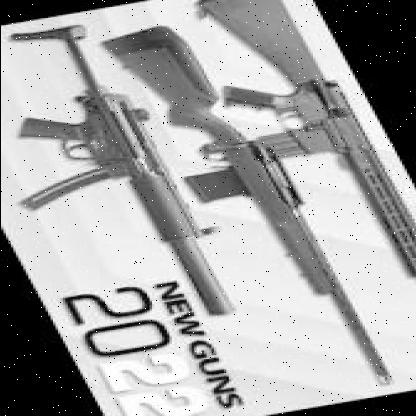rifle: (191, 0, 416, 369), (0, 18, 226, 290)
